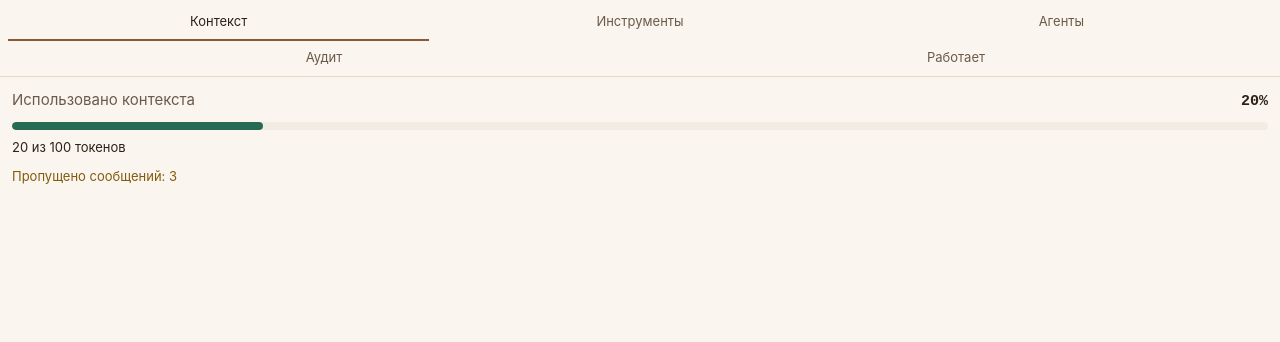
Test: disables Stop during its request and marks partial known cost
Click the tab "Работает": point(956, 58) [640,40,1272,76]
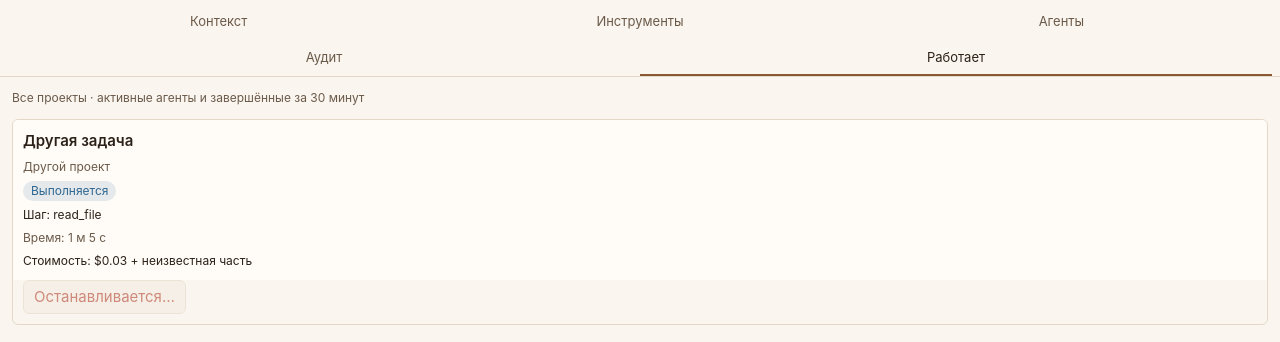
expect the button with class "monitor-stop" is disabled: met, box [23,280,186,314]
expect the text with class "monitor-cost" shows "неизвестная часть": met, box [23,252,252,268]
